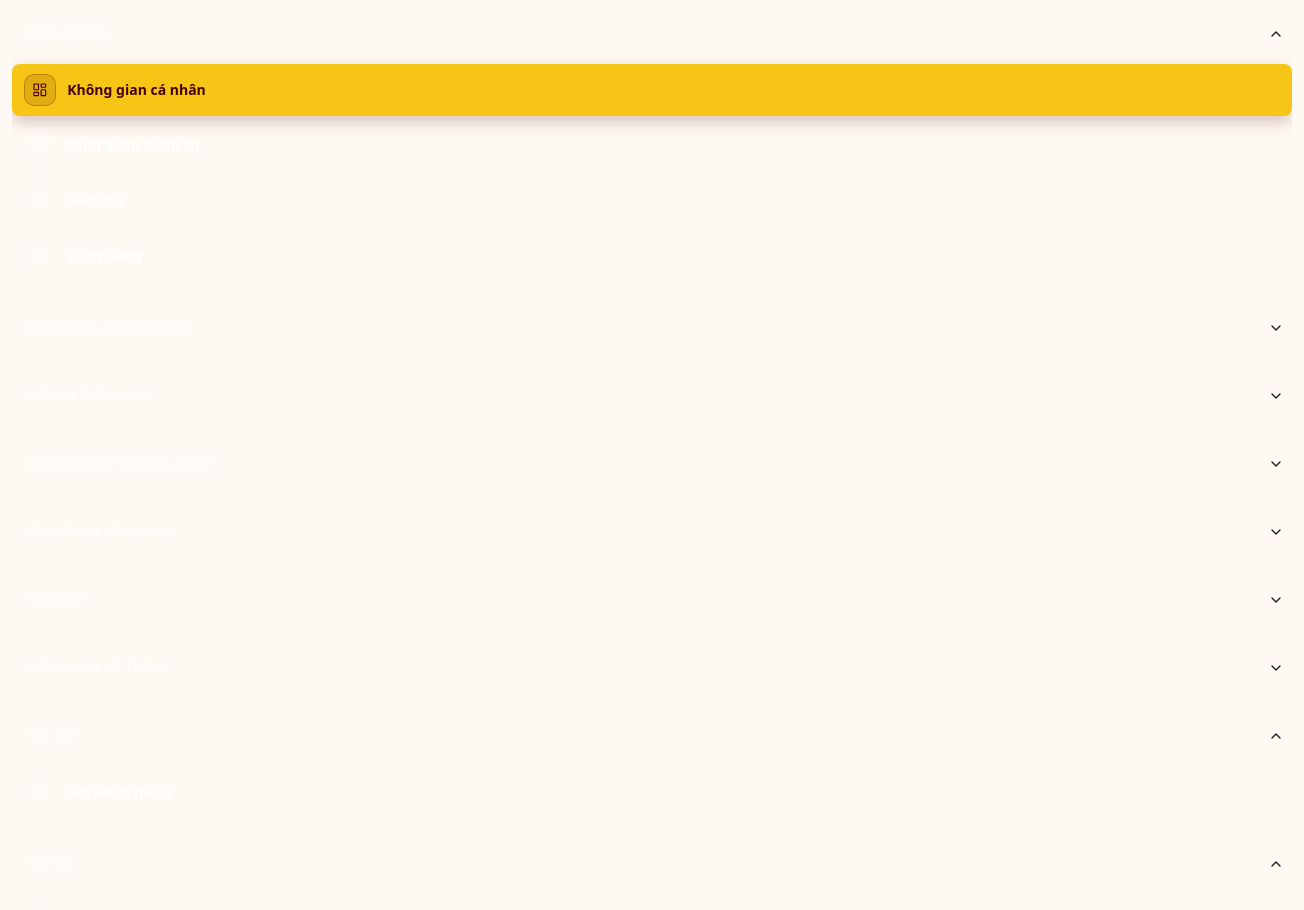
Test: DashboardNavigation work-allocation migration › starts inactive admin groups collapsed and lets users open them
Click the button "Nhân sự" at coordinates (56, 599), box x1=12 y1=578 x2=1292 y2=622
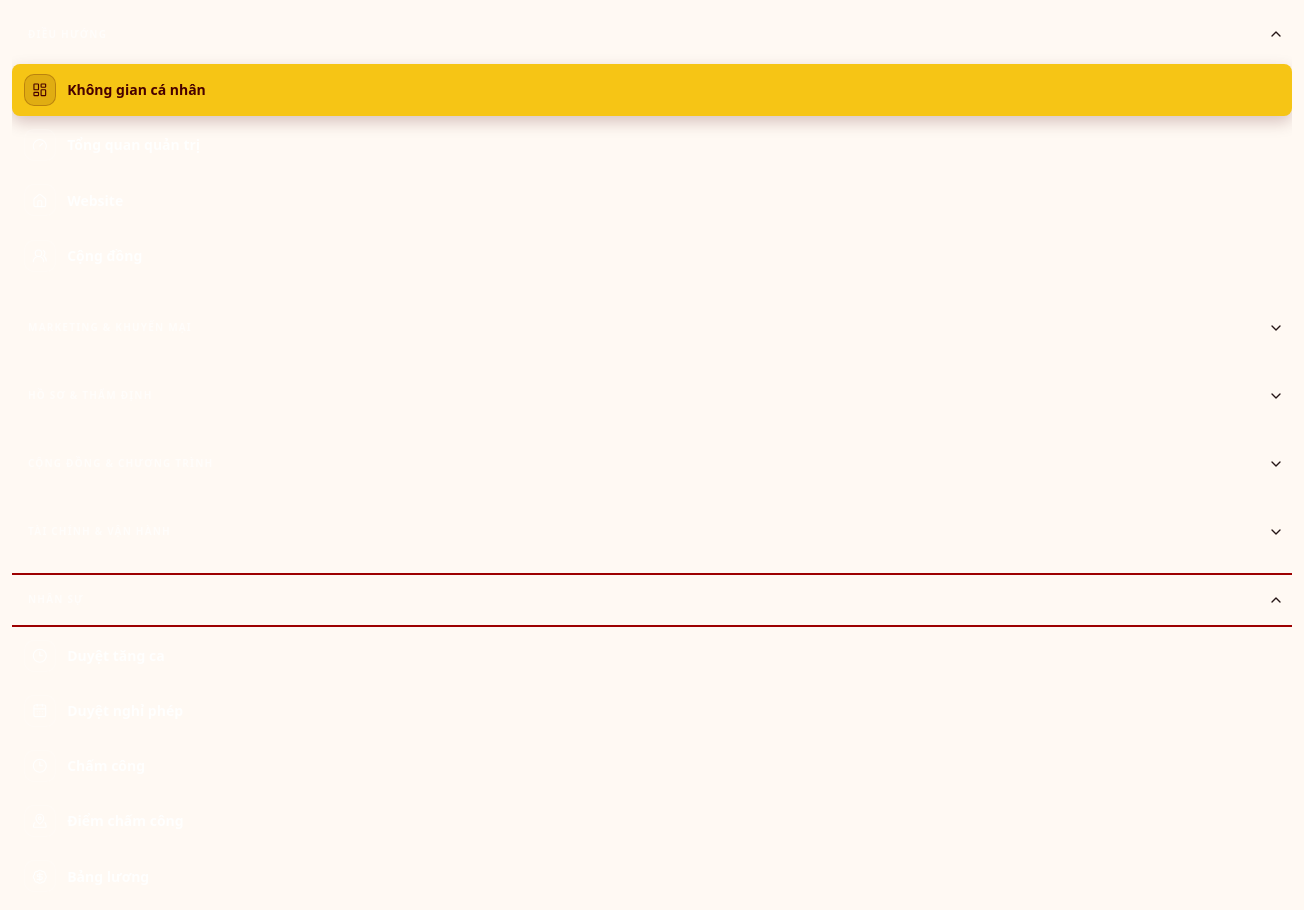
Check: the button "Nhân sự" is expanded
Click the button "Nhân sự" at coordinates (56, 599), box x1=12 y1=578 x2=1292 y2=622
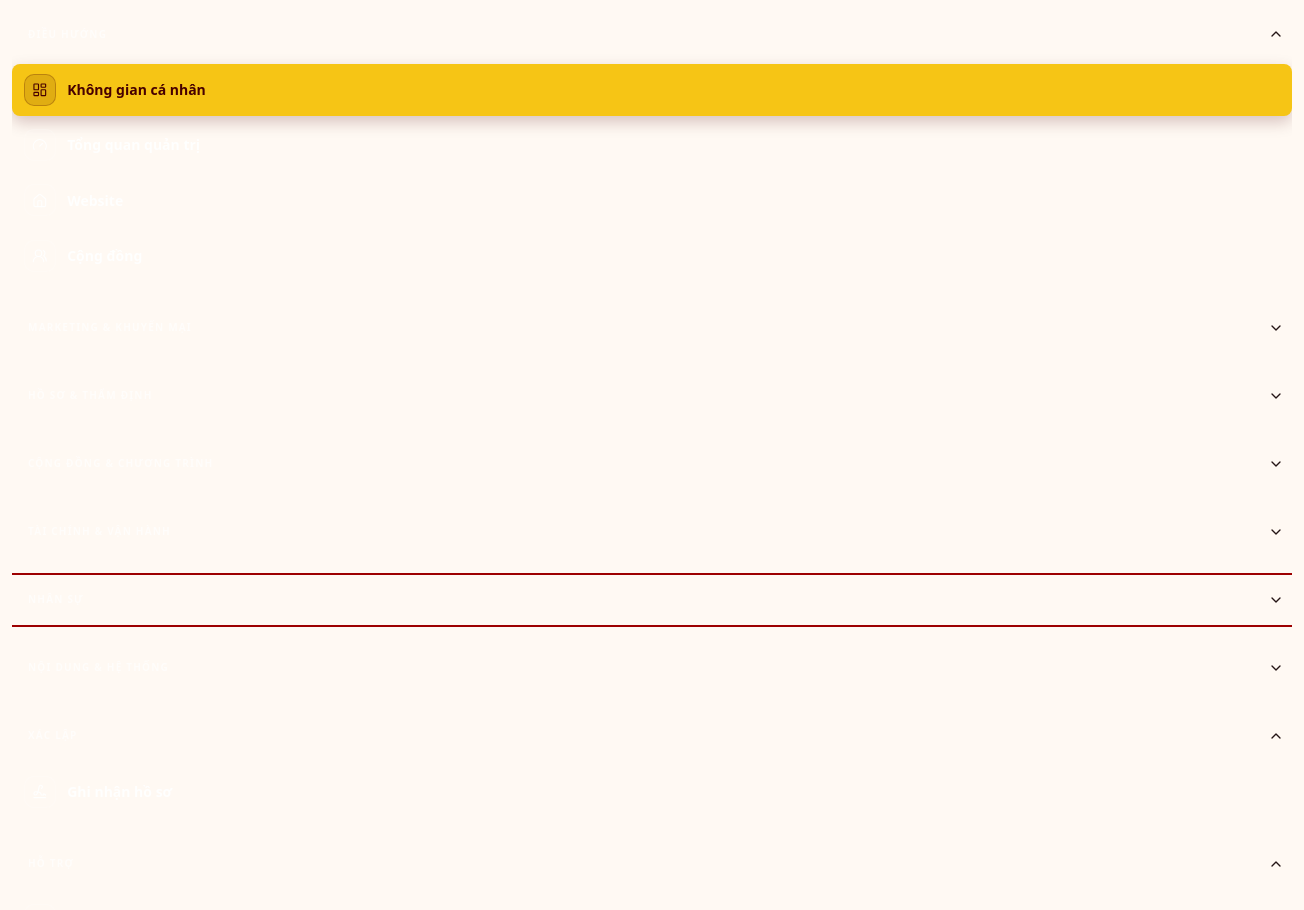
Check: the button "Nhân sự" is collapsed, box x1=12 y1=578 x2=1292 y2=622
